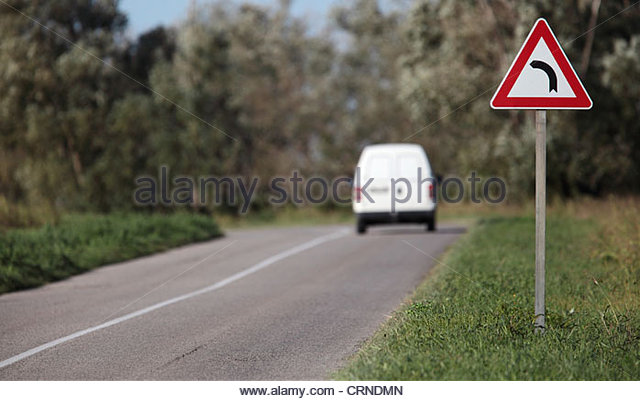Bend_to_left: (487, 18, 594, 112)
